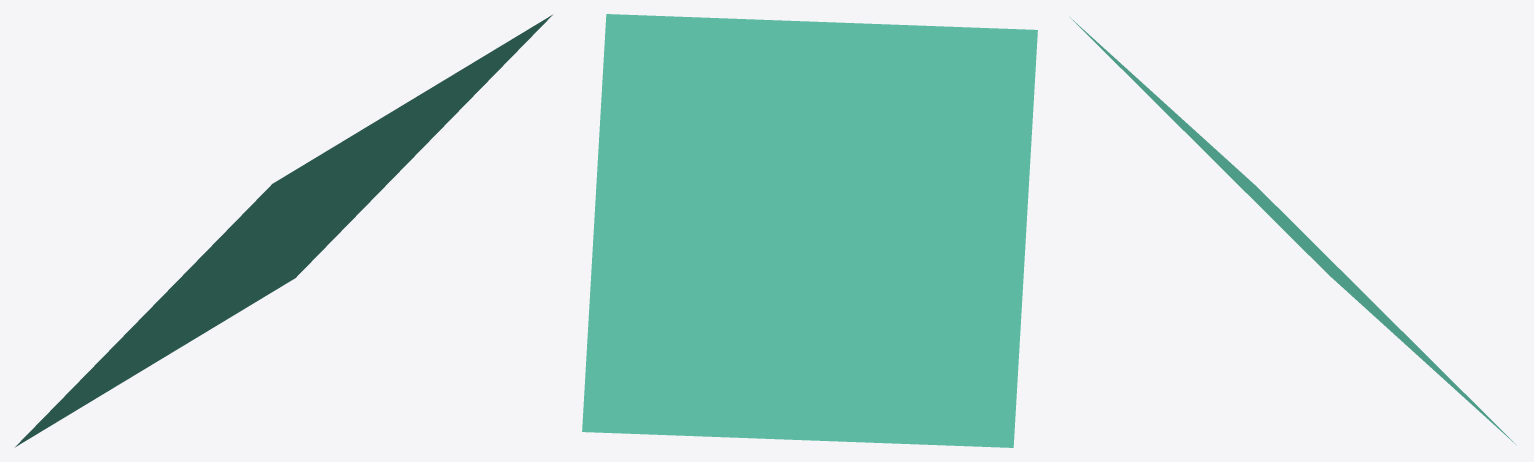
File: threshold.fbx
3 renders of one model, left to right at view 1: azimuth 30°, elevation 25°; view 2: azimuth 150°, elevation 25°; view 3: azimuth 270°, elevation 25°, orthographic. The views are drawn at different scales.
Parts seen in each view (by area): view 1: threshold; view 2: threshold; view 3: threshold.
Part boxes in pixels (x1,y1,x2,y2): threshold: (15,14,552,447); threshold: (582,14,1037,447); threshold: (1070,17,1515,444).
Bounding box in the file's own units: 1.05e+09 × 6.85e+08 × 8.98e+08.
